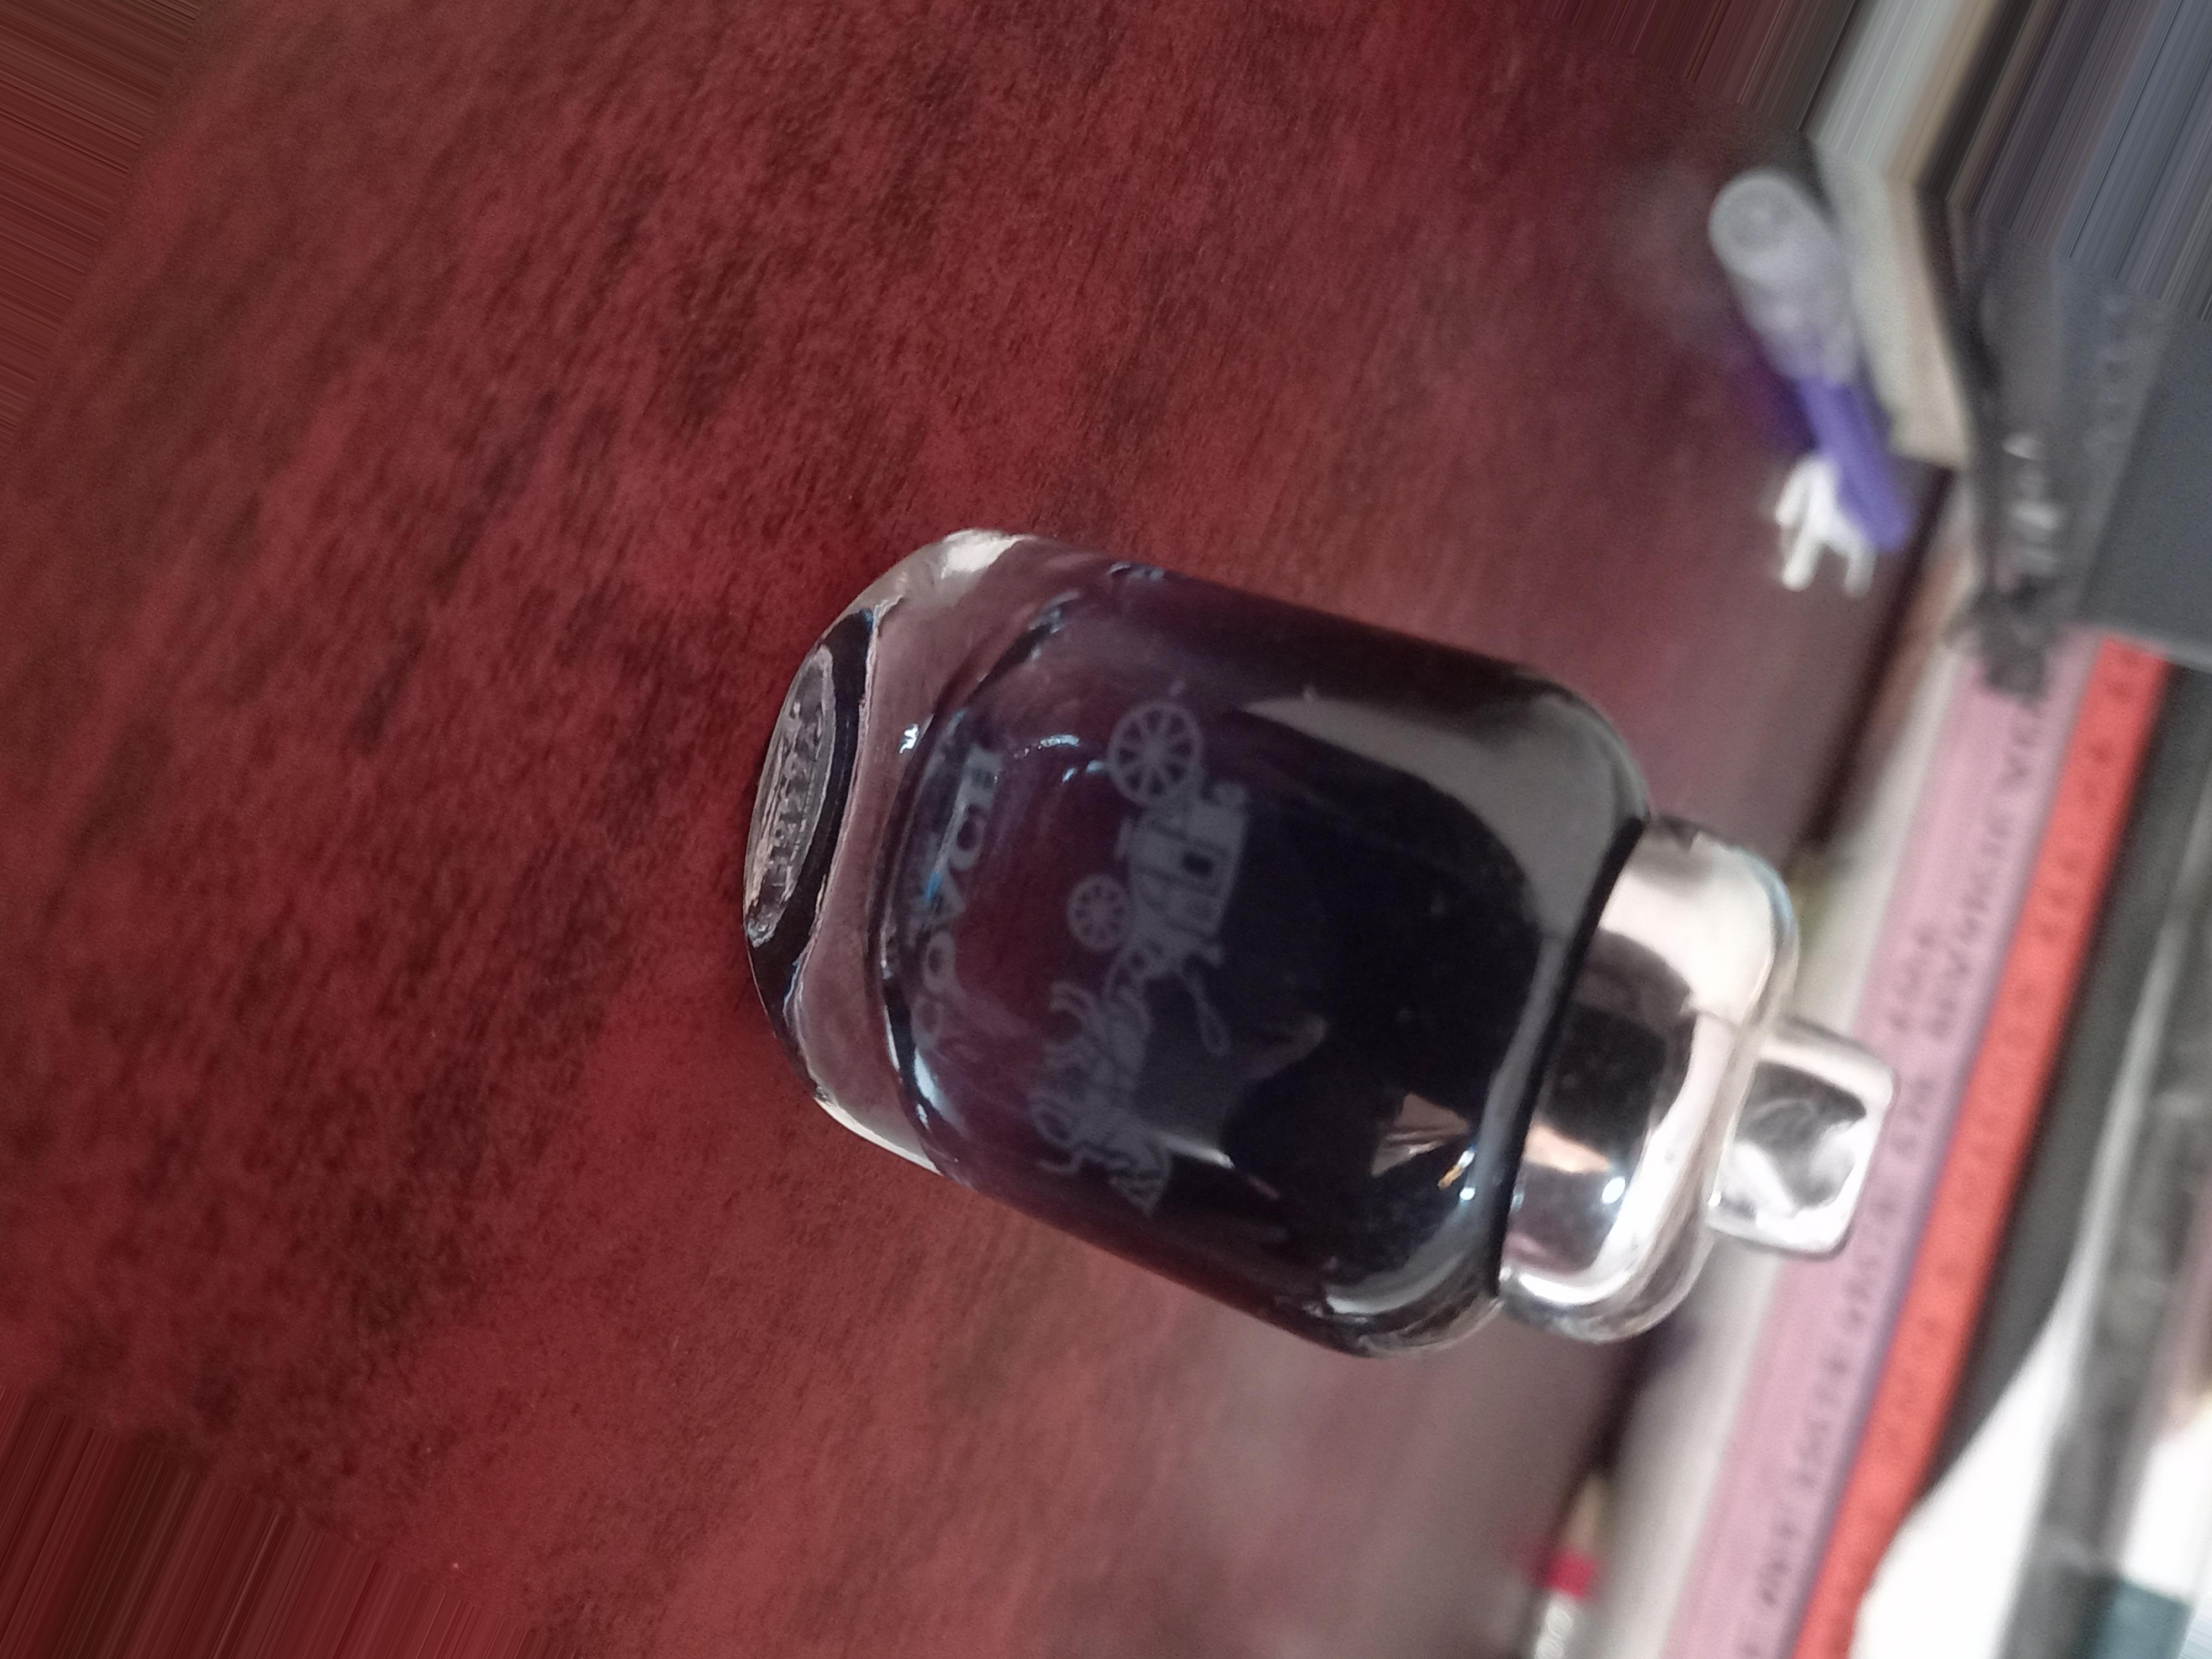perfume: (738, 533, 1578, 1384)
